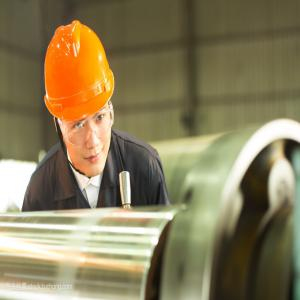yellow: (41, 23, 118, 179)
